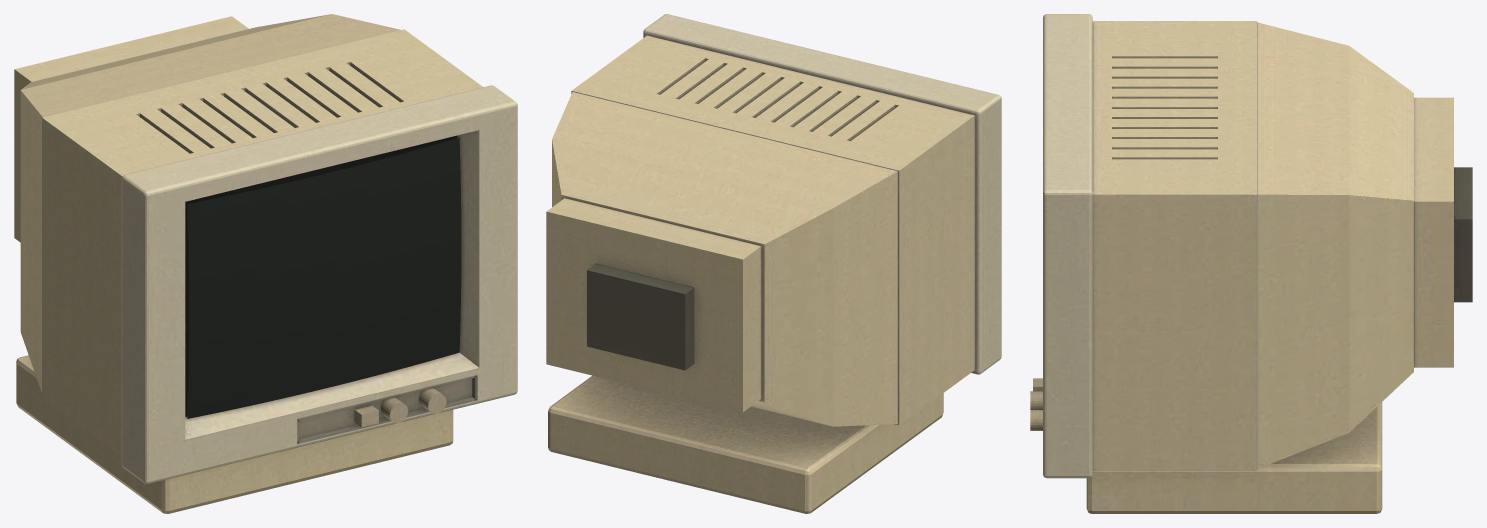
Rendered from crt-a.glb.
3 views of the same model, side by side, from view 1: azimuth 30°, elevation 25°; view 2: azimuth 150°, elevation 25°; view 3: azimuth 270°, elevation 25° (orthographic). The views are drawn at different scales.
Parts seen in each view (by area): view 1: case-baked, glass; view 2: case-baked; view 3: case-baked.
Boxes of the visible parts, x1,y1,x2,y2 form: case-baked: (14,14,517,513); glass: (187,138,461,418); case-baked: (546,14,1001,513); case-baked: (1030,14,1472,513).
Size of the model in its own units: 0.34 by 0.305 by 0.355.
2 materials, 1 textured.
